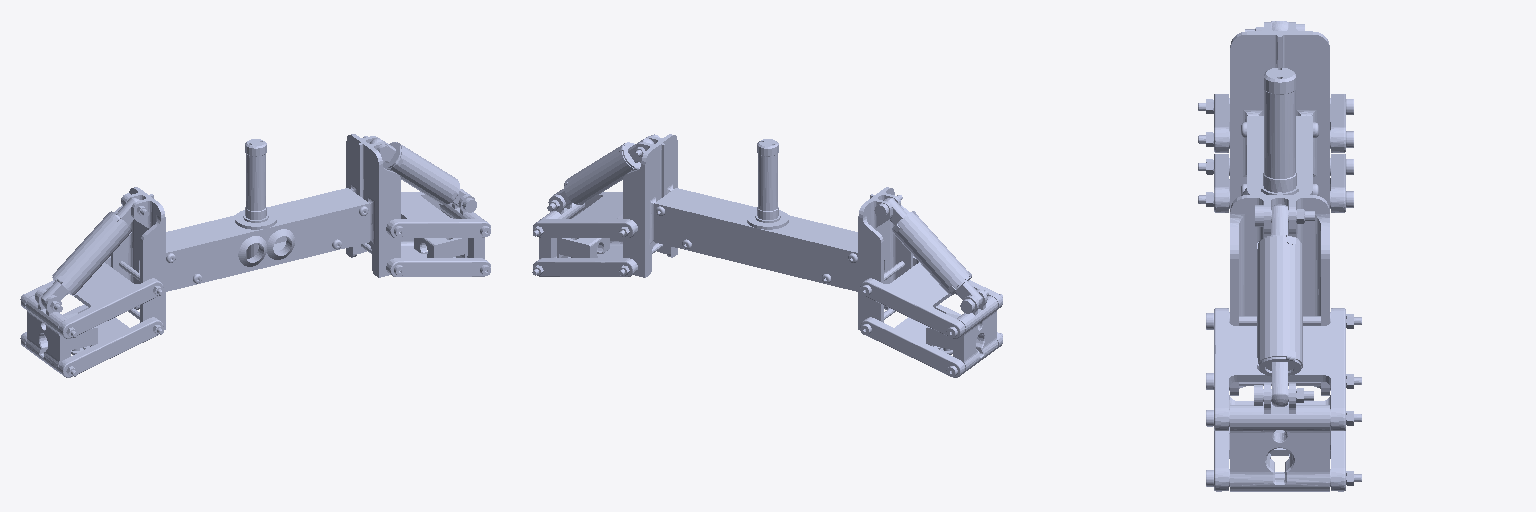
The robot description file, URDF, robot "segway":
<?xml version="1.0" encoding="utf-8"?>
<!-- This URDF was automatically created by SolidWorks to URDF Exporter! Originally created by [author] ([email redacted]) 
     Commit Version: 1.5.1-0-g916b5db  Build Version: 1.5.7152.31018
     For more information, please see http://wiki.ros.org/sw_urdf_exporter -->
<robot
  name="segway">
  <link
    name="chejia_link">
    <inertial>
      <origin
        xyz="0.00361762800581263 -0.133421165022722 0.0648164589836014"
        rpy="0 0 0" />
      <mass
        value="2.42397545608915" />
      <inertia
        ixx="0.0296962022350776"
        ixy="2.4976120795965E-06"
        ixz="-1.37689680267216E-05"
        iyy="0.0331663553221158"
        iyz="3.0593217918394E-05"
        izz="0.00646533575042488" />
    </inertial>
    <visual>
      <origin
        xyz="0 0 0"
        rpy="0 0 0" />
      <geometry>
        <mesh
          filename="package://segway_description/meshes/chejia_link.STL" />
      </geometry>
      <material
        name="">
        <color
          rgba="0.792156862745098 0.819607843137255 0.933333333333333 1" />
      </material>
    </visual>
    <collision>
      <origin
        xyz="0 0 0"
        rpy="0 0 0" />
      <geometry>
        <mesh
          filename="package://segway_description/meshes/chejia_link.STL" />
      </geometry>
    </collision>
  </link>
  <link
    name="zhuanxiangjia_Link">
    <inertial>
      <origin
        xyz="0.00350625991709064 -0.184876810131571 -0.22368381667265"
        rpy="0 0 0" />
      <mass
        value="0.636763996187421" />
      <inertia
        ixx="0.000522373966033037"
        ixy="6.88842321153043E-11"
        ixz="-2.55687287488004E-10"
        iyy="0.000692728712644784"
        iyz="1.31394242797586E-12"
        izz="0.000643891365515844" />
    </inertial>
    <visual>
      <origin
        xyz="0 0 0"
        rpy="0 0 0" />
      <geometry>
        <mesh
          filename="package://segway_description/meshes/zhuanxiangjia_Link.STL" />
      </geometry>
      <material
        name="">
        <color
          rgba="0.792156862745098 0.819607843137255 0.933333333333333 1" />
      </material>
    </visual>
    <collision>
      <origin
        xyz="0 0 0"
        rpy="0 0 0" />
      <geometry>
        <mesh
          filename="package://segway_description/meshes/zhuanxiangjia_Link.STL" />
      </geometry>
    </collision>
  </link>
  <joint
    name="zhuanxiangjia_joint"
    type="revolute">
    <origin
      xyz="0 0 0"
      rpy="1.5708 0 0" />
    <parent
      link="chejia_link" />
    <child
      link="zhuanxiangjia_Link" />
    <axis
      xyz="0 -1 0" />
    <limit
      lower="0"
      upper="0"
      effort="0"
      velocity="0" />
  </joint>
  <link
    name="zuoqianlun_Link">
    <inertial>
      <origin
        xyz="-0.18003195018567 0.0161203758776952 -0.0161713179715041"
        rpy="0 0 0" />
      <mass
        value="0.379124506048444" />
      <inertia
        ixx="0.00135623331658277"
        ixy="-2.05858146537997E-08"
        ixz="2.75425144310775E-07"
        iyy="0.00074553860560749"
        iyz="-2.05160697747808E-08"
        izz="0.000744863292198173" />
    </inertial>
    <visual>
      <origin
        xyz="0 0 0"
        rpy="0 0 0" />
      <geometry>
        <mesh
          filename="package://segway_description/meshes/zuoqianlun_Link.STL" />
      </geometry>
      <material
        name="">
        <color
          rgba="0.792156862745098 0.819607843137255 0.933333333333333 1" />
      </material>
    </visual>
    <collision>
      <origin
        xyz="0 0 0"
        rpy="0 0 0" />
      <geometry>
        <mesh
          filename="package://segway_description/meshes/zuoqianlun_Link.STL" />
      </geometry>
    </collision>
  </link>
  <joint
    name="zuoqianlun_joint"
    type="continuous">
    <origin
      xyz="-0.092435 -0.21283 -0.24243"
      rpy="2.9877 0 0" />
    <parent
      link="zhuanxiangjia_Link" />
    <child
      link="zuoqianlun_Link" />
    <axis
      xyz="1 0 0" />
  </joint>
  <link
    name="youqianlun_Link">
    <inertial>
      <origin
        xyz="-0.180031949902314 0.0161203458684245 -0.0161712883250444"
        rpy="0 0 0" />
      <mass
        value="0.37912408551256" />
      <inertia
        ixx="0.0013562336762928"
        ixy="-2.05946493125457E-08"
        ixz="2.75615782692675E-07"
        iyy="0.0007455386716045"
        iyz="-2.12571382999838E-08"
        izz="0.000744862395561634" />
    </inertial>
    <visual>
      <origin
        xyz="0 0 0"
        rpy="0 0 0" />
      <geometry>
        <mesh
          filename="package://segway_description/meshes/youqianlun_Link.STL" />
      </geometry>
      <material
        name="">
        <color
          rgba="0.792156862745098 0.819607843137255 0.933333333333333 1" />
      </material>
    </visual>
    <collision>
      <origin
        xyz="0 0 0"
        rpy="0 0 0" />
      <geometry>
        <mesh
          filename="package://segway_description/meshes/youqianlun_Link.STL" />
      </geometry>
    </collision>
  </link>
  <joint
    name="youqianlun_joint"
    type="continuous">
    <origin
      xyz="0.099447 -0.24433 -0.20905"
      rpy="-1.6671 0 3.1416" />
    <parent
      link="zhuanxiangjia_Link" />
    <child
      link="youqianlun_Link" />
    <axis
      xyz="1 0 0" />
  </joint>
  <link
    name="zuohoulun_Link">
    <inertial>
      <origin
        xyz="-0.205721407122161 4.72112875317676E-05 9.00201436271342E-06"
        rpy="0 0 0" />
      <mass
        value="0.634779873374433" />
      <inertia
        ixx="0.00181854534335576"
        ixy="3.33041385279325E-07"
        ixz="-2.8378478388468E-07"
        iyy="0.00101390067982028"
        iyz="-5.2299696505564E-09"
        izz="0.00101270577373137" />
    </inertial>
    <visual>
      <origin
        xyz="0 0 0"
        rpy="0 0 0" />
      <geometry>
        <mesh
          filename="package://segway_description/meshes/zuohoulun_Link.STL" />
      </geometry>
      <material
        name="">
        <color
          rgba="0.792156862745098 0.819607843137255 0.933333333333333 1" />
      </material>
    </visual>
    <collision>
      <origin
        xyz="0 0 0"
        rpy="0 0 0" />
      <geometry>
        <mesh
          filename="package://segway_description/meshes/zuohoulun_Link.STL" />
      </geometry>
    </collision>
  </link>
  <joint
    name="zuohoulun_joint"
    type="continuous">
    <origin
      xyz="-0.058831 -0.23219 -0.22848"
      rpy="1.5708 0 0" />
    <parent
      link="chejia_link" />
    <child
      link="zuohoulun_Link" />
    <axis
      xyz="1 0 0" />
  </joint>
  <link
    name="youhoulun_Link">
    <inertial>
      <origin
        xyz="-0.205721415016193 4.72492608288855E-05 9.01686700283122E-06"
        rpy="0 0 0" />
      <mass
        value="0.634778552429949" />
      <inertia
        ixx="0.00181854505148151"
        ixy="3.32515010548019E-07"
        ixz="-2.83394847813244E-07"
        iyy="0.00101390105479182"
        iyz="-5.03852728516005E-09"
        izz="0.00101270465329001" />
    </inertial>
    <visual>
      <origin
        xyz="0 0 0"
        rpy="0 0 0" />
      <geometry>
        <mesh
          filename="package://segway_description/meshes/youhoulun_Link.STL" />
      </geometry>
      <material
        name="">
        <color
          rgba="0.792156862745098 0.819607843137255 0.933333333333333 1" />
      </material>
    </visual>
    <collision>
      <origin
        xyz="0 0 0"
        rpy="0 0 0" />
      <geometry>
        <mesh
          filename="package://segway_description/meshes/youhoulun_Link.STL" />
      </geometry>
    </collision>
  </link>
  <joint
    name="youhoulun_joint"
    type="continuous">
    <origin
      xyz="0.065844 -0.23219 -0.22848"
      rpy="0.17453 0 -3.1416" />
    <parent
      link="chejia_link" />
    <child
      link="youhoulun_Link" />
    <axis
      xyz="1 0 0" />
  </joint>
</robot>

--- Render facts (derived) ---
The picture shows the robot from 3 angles, left to right: view 1: azimuth 30°, elevation 25°; view 2: azimuth 150°, elevation 25°; view 3: azimuth 270°, elevation 25°; orthographic projection.
Model segway with 6 links and 5 joints (1 revolute, 4 continuous), rooted at chejia_link, posed all joints at 0.
Visible links, largest first — view 1: zhuanxiangjia_Link; view 2: zhuanxiangjia_Link; view 3: zhuanxiangjia_Link.
Link boxes in pixels (x1=…): zhuanxiangjia_Link: x1=20, y1=134, x2=490, y2=377; zhuanxiangjia_Link: x1=532, y1=134, x2=1002, y2=377; zhuanxiangjia_Link: x1=1198, y1=21, x2=1361, y2=491.
Size in the robot's own frame: 0.4607 by 0.099 by 0.1739 metres.
Meshes: 6 distinct files referenced, 1 mesh visuals loaded (1 binary STL); not drawn: 5 (reference not matched to a file when rendering).